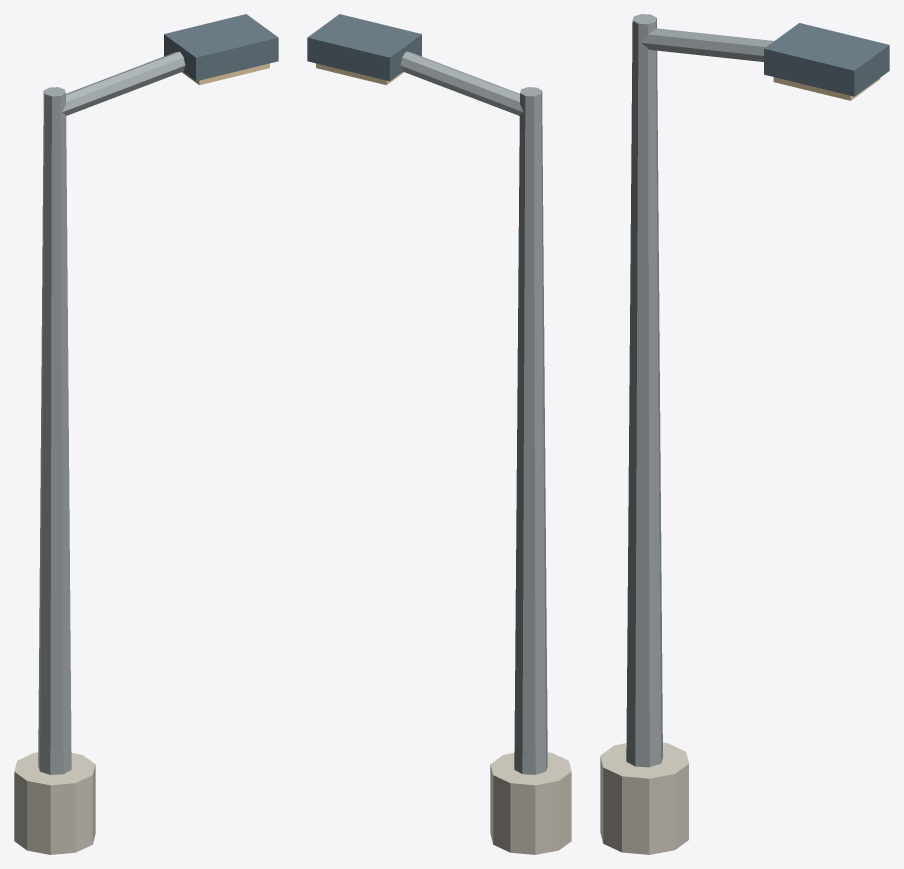
Rendered from streetlight.glb.
3 views of the same model, side by side, from view 1: azimuth 30°, elevation 25°; view 2: azimuth 150°, elevation 25°; view 3: azimuth 330°, elevation 25° (orthographic). The views are drawn at different scales.
Visible parts, largest first — view 1: GEO-tapered post, GEO-foot, GEO-light head, GEO-curved arm; view 2: GEO-tapered post, GEO-foot, GEO-light head, GEO-curved arm; view 3: GEO-tapered post, GEO-foot, GEO-light head, GEO-curved arm.
Boxes of the visible parts, box(x1,y1,x2,y2) form: GEO-tapered post: box(38, 87, 71, 774); GEO-foot: box(14, 752, 95, 854); GEO-light head: box(164, 14, 278, 81); GEO-curved arm: box(62, 51, 185, 115); GEO-tapered post: box(514, 87, 547, 774); GEO-foot: box(490, 752, 571, 854); GEO-light head: box(307, 14, 421, 81); GEO-curved arm: box(400, 51, 523, 115); GEO-tapered post: box(626, 14, 662, 767); GEO-foot: box(600, 742, 688, 854); GEO-light head: box(764, 23, 889, 96); GEO-curved arm: box(641, 28, 773, 61).
Bounding box in the file's own units: 1.82 × 5.47 × 0.54.
